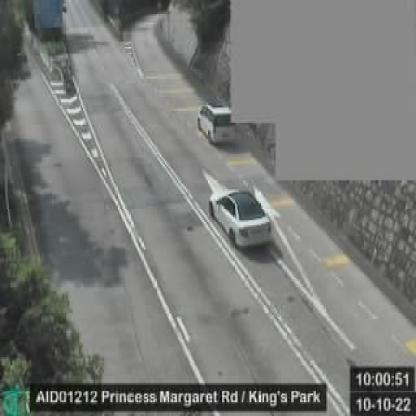Car: (207, 189, 272, 248), (197, 101, 232, 144)
